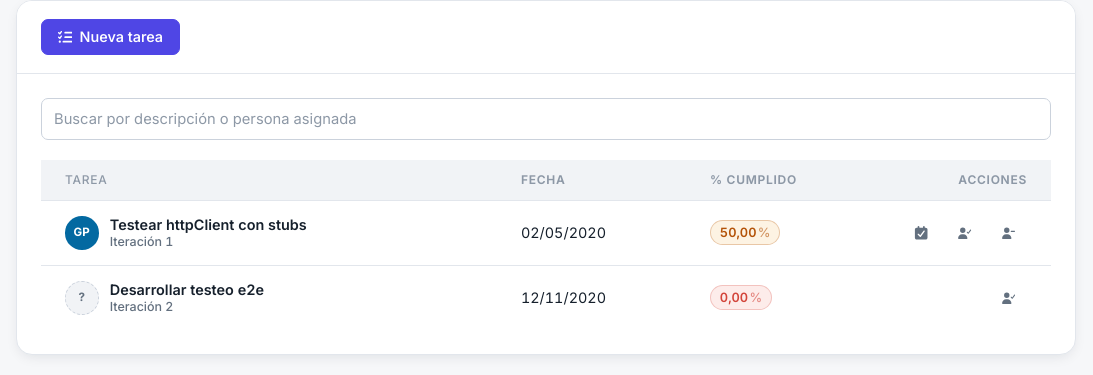
TareasComponent › searching for second task should have one tr in tasks list
This screenshot has width=1093, height=375.
Type "e2e" into the field with placeholder "Buscar por descripción o persona asignada" at point(546, 119), box [41,98,1051,140]
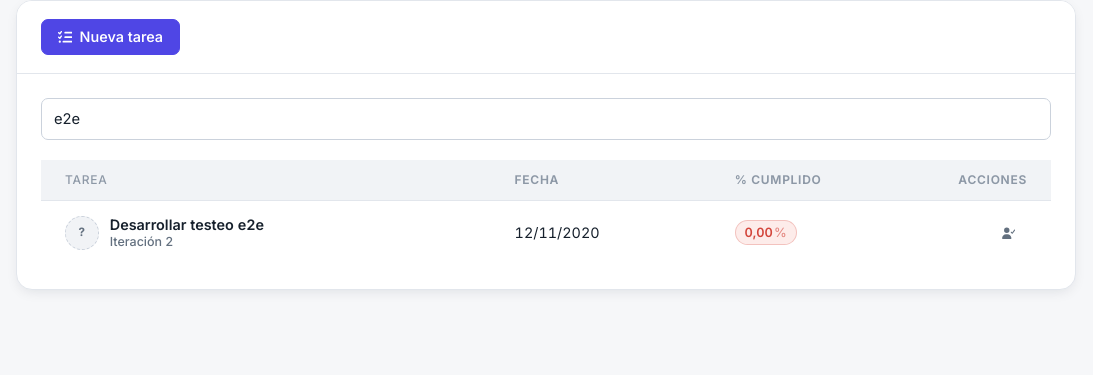
Expected: the number of rows with test id "fila-tarea" is 1, [41,200,1051,265]
